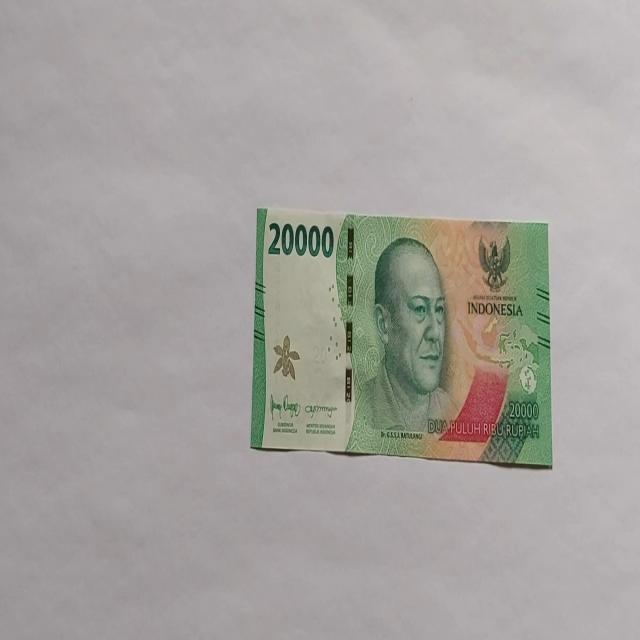dua puluh ribu rupiah: (250, 204, 552, 466), (362, 235, 460, 442)
